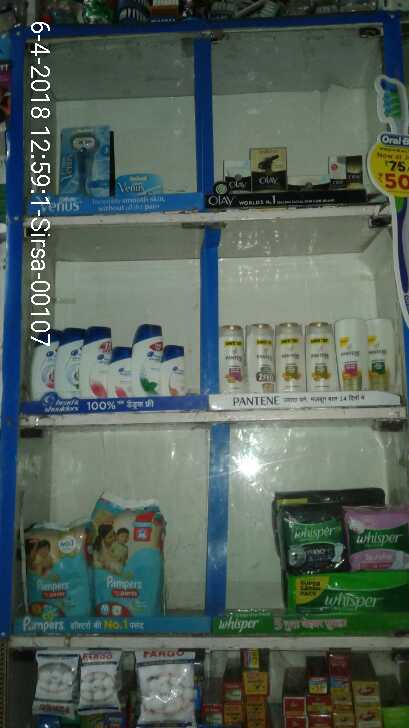venus: (58, 124, 111, 195), (116, 170, 164, 197)
